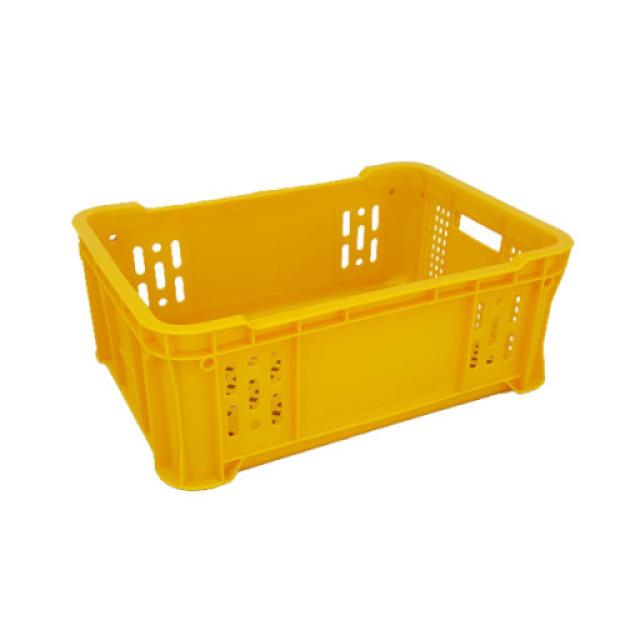basket: (69, 122, 606, 504)
